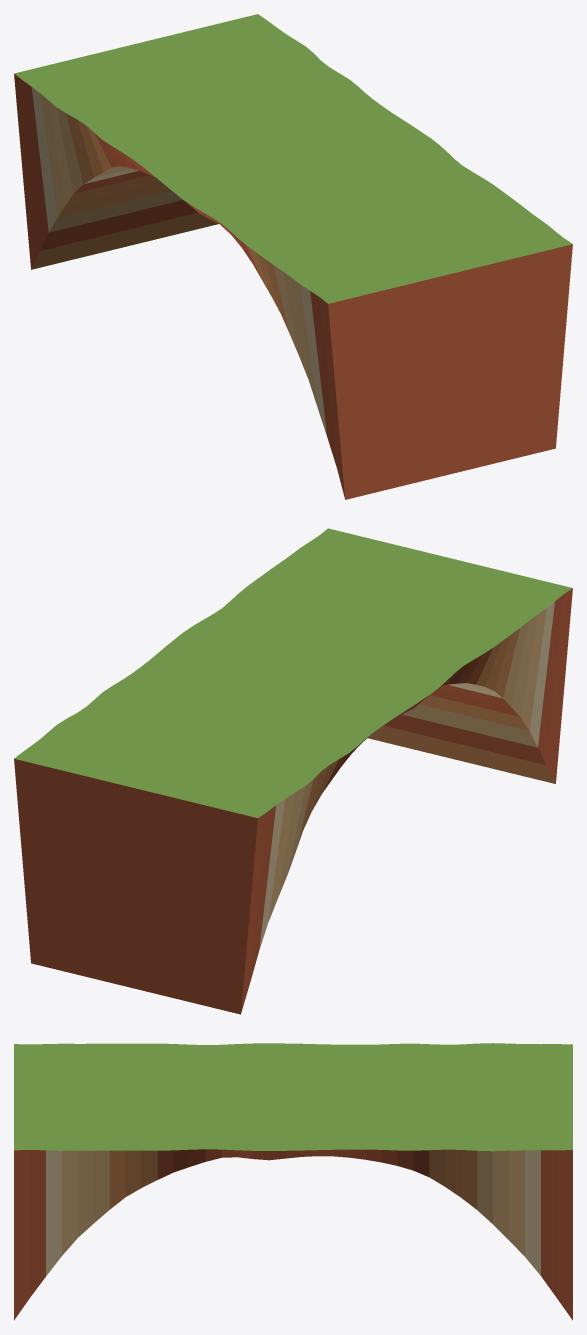
Rendered from ponte_01d3.glb.
The picture shows the model from 3 angles, top to bottom: view 1: azimuth 30°, elevation 25°; view 2: azimuth 150°, elevation 25°; view 3: azimuth 270°, elevation 25°; orthographic projection. The views are drawn at different scales.
Parts seen in each view (by area): view 1: ponte_01d3; view 2: ponte_01d3; view 3: ponte_01d3.
Boxes of the visible parts, x1,y1,x2,y2 form: ponte_01d3: (14, 14, 572, 499); ponte_01d3: (14, 528, 572, 1014); ponte_01d3: (14, 1043, 572, 1320).
Bounding box in the file's own units: 65.28 × 50.19 × 143.
